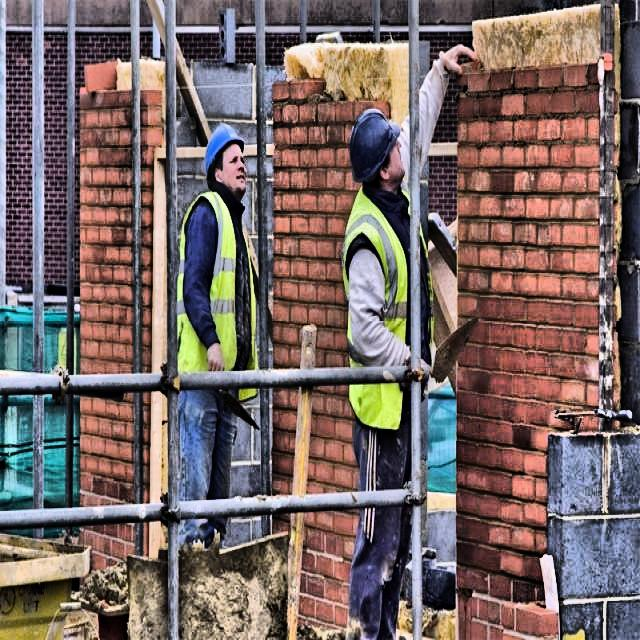person: (333, 105, 436, 640), (170, 110, 264, 542)
